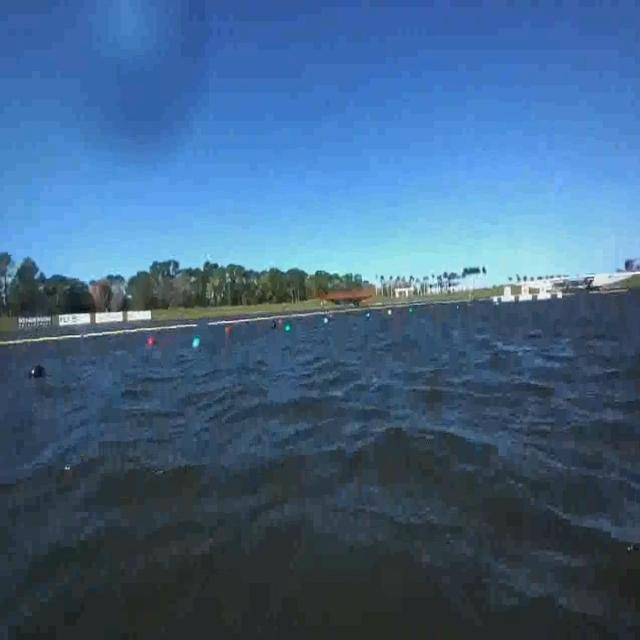black-buoy: (26, 364, 52, 382)
green-buoy: (191, 337, 200, 349)
red-buoy: (148, 337, 156, 347), (225, 326, 231, 334)
